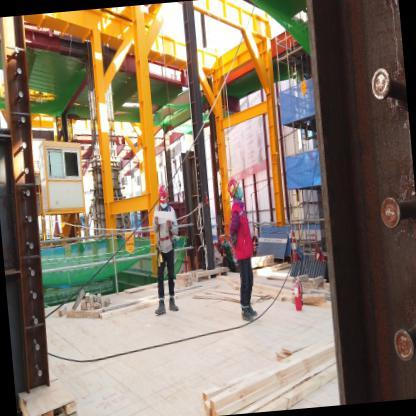safety-shoe: (151, 299, 167, 319), (241, 309, 255, 328), (170, 297, 181, 315)
